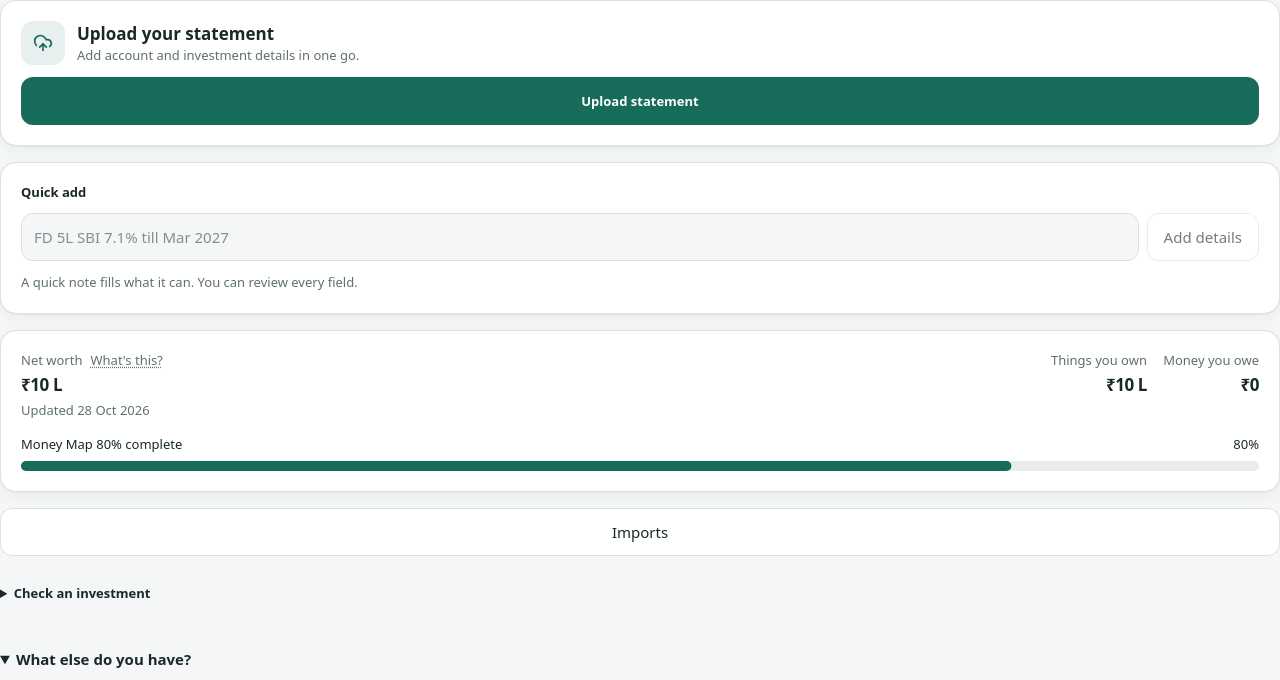
Money Map › uses quick-add to prefill the FD 5L Demo Bank 7.1% till Mar 2027 card and marks missing fields
Type "FD 5L Demo Bank 7.1% till Mar 2027" into the field labelled "Quick add" at (580, 237), box top-left (21, 213), bottom-right (1139, 261)
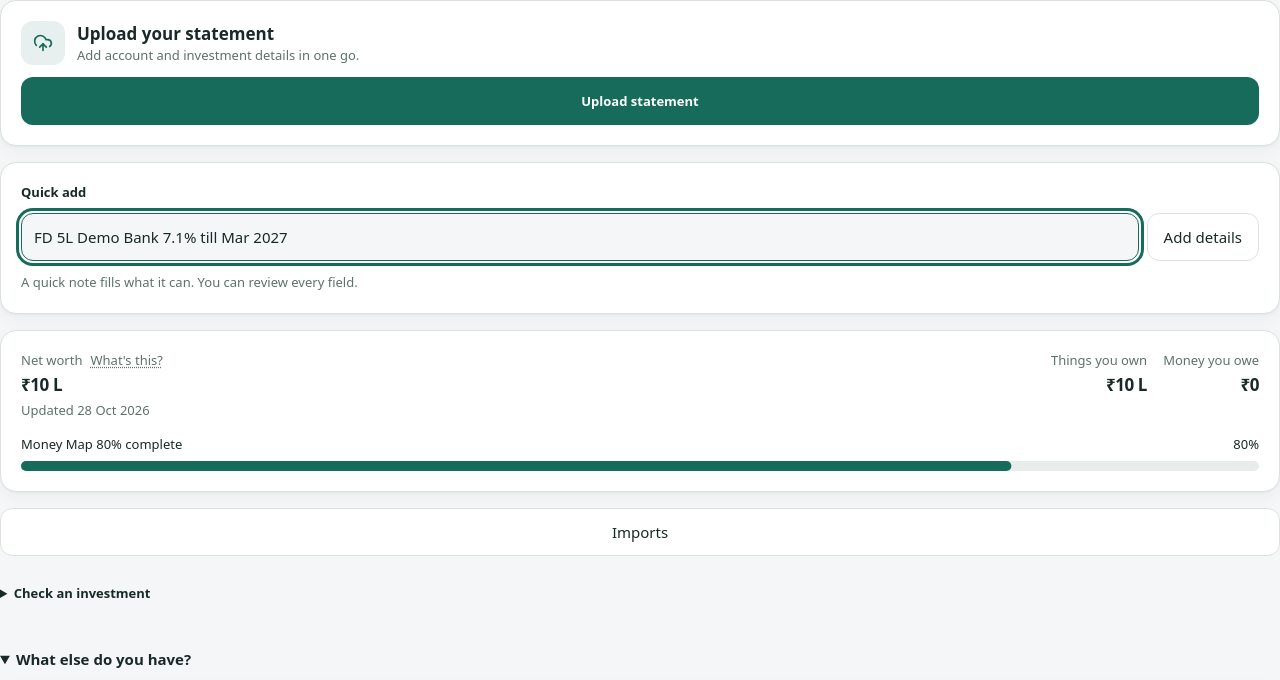
Click the button "Add details" at (1203, 237), box top-left (1147, 213), bottom-right (1259, 261)
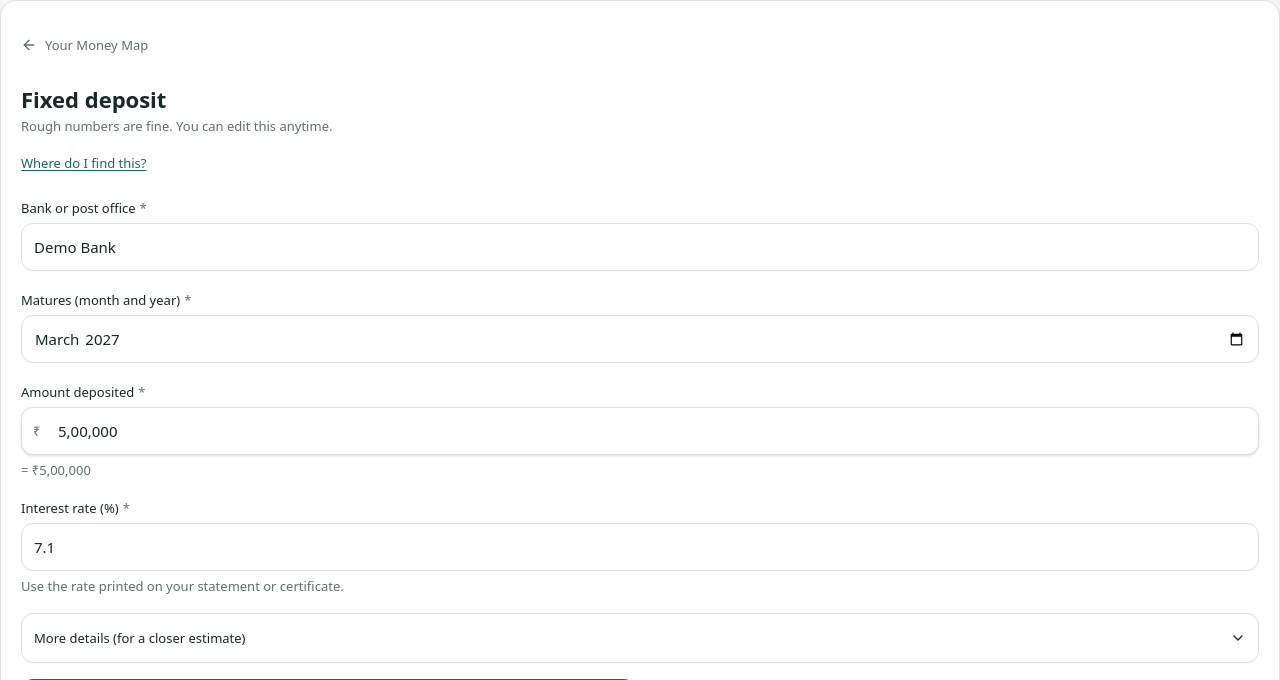
Result: the field labelled "Bank or post office*" holds "Demo Bank" at top-left (21, 223), bottom-right (1259, 271)
